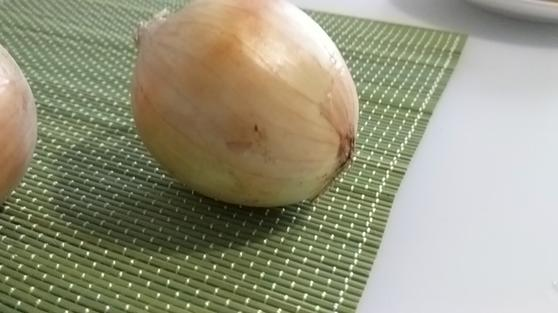onion: (129, 1, 360, 209)
